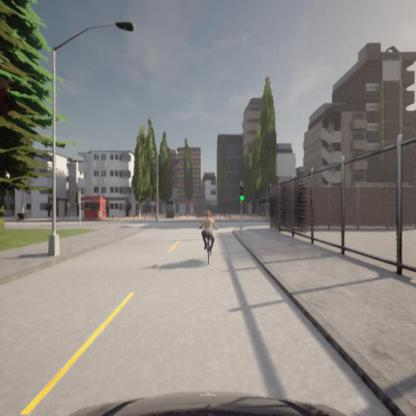bike: (198, 211, 218, 266)
traffic_light_green: (239, 187, 245, 202)
